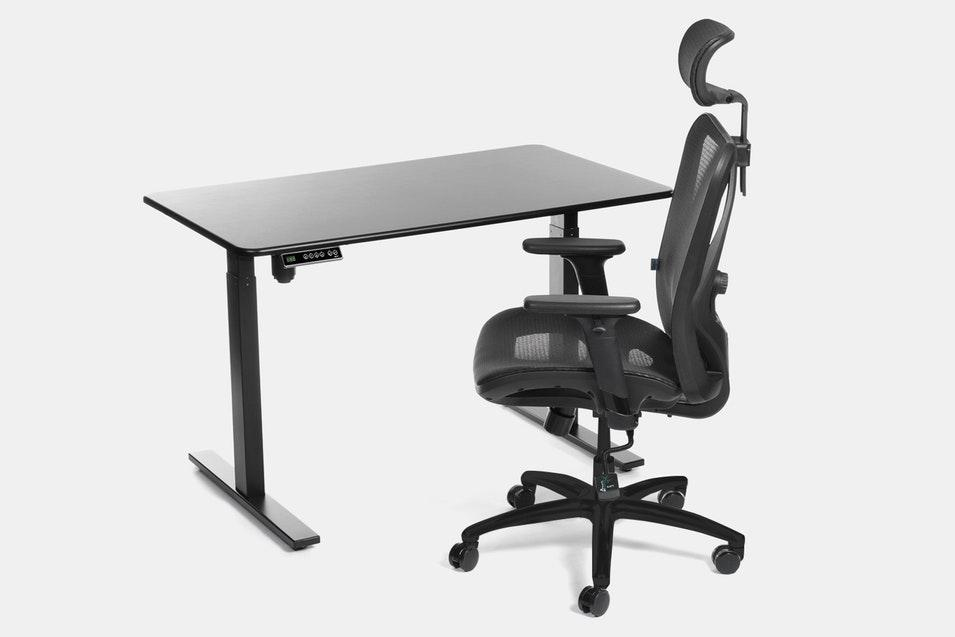chair: (414, 53, 802, 617)
